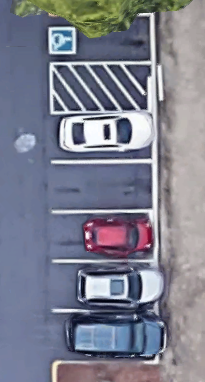Occupied: (52, 311, 156, 362), (50, 212, 155, 262), (51, 261, 156, 311), (50, 113, 153, 160)
Vacant: (50, 161, 155, 211), (49, 14, 153, 62)
